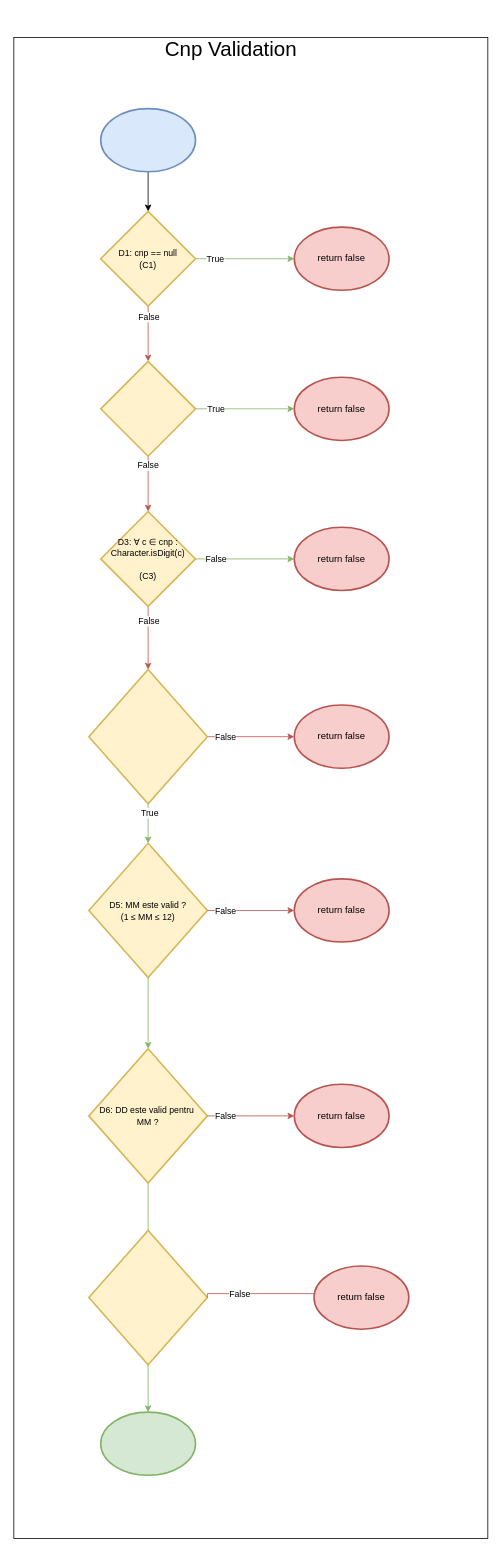
This 502x1552 diagram has some shape labels left out. Here are the shapes that lost their labels. From the top down, the box of each, then its label:
(100, 107, 196, 172): Start
(100, 360, 196, 457): D2: cnp.length !=13 (C2)
(88, 668, 208, 804): D4: S este valid ? (1 ≤ S ≤ 9)
(88, 1229, 208, 1365): D7: JJ este valid ? (1–52 sau 99)
(100, 1411, 196, 1476): return true
